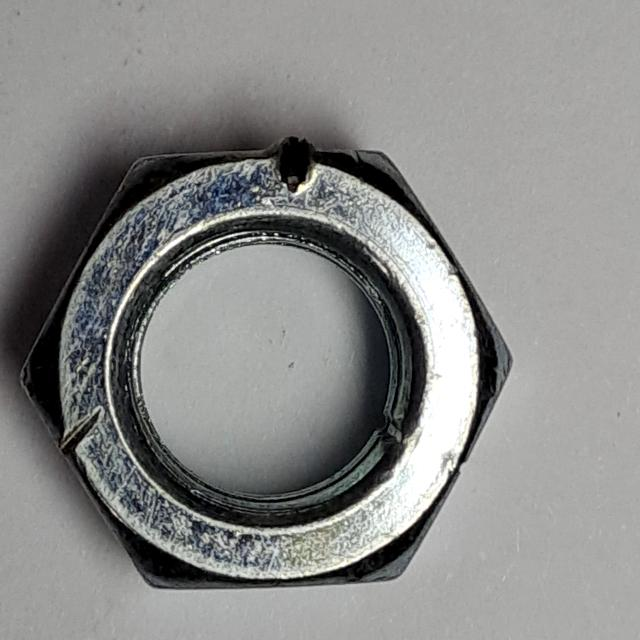Scratches: (10, 119, 539, 609)
